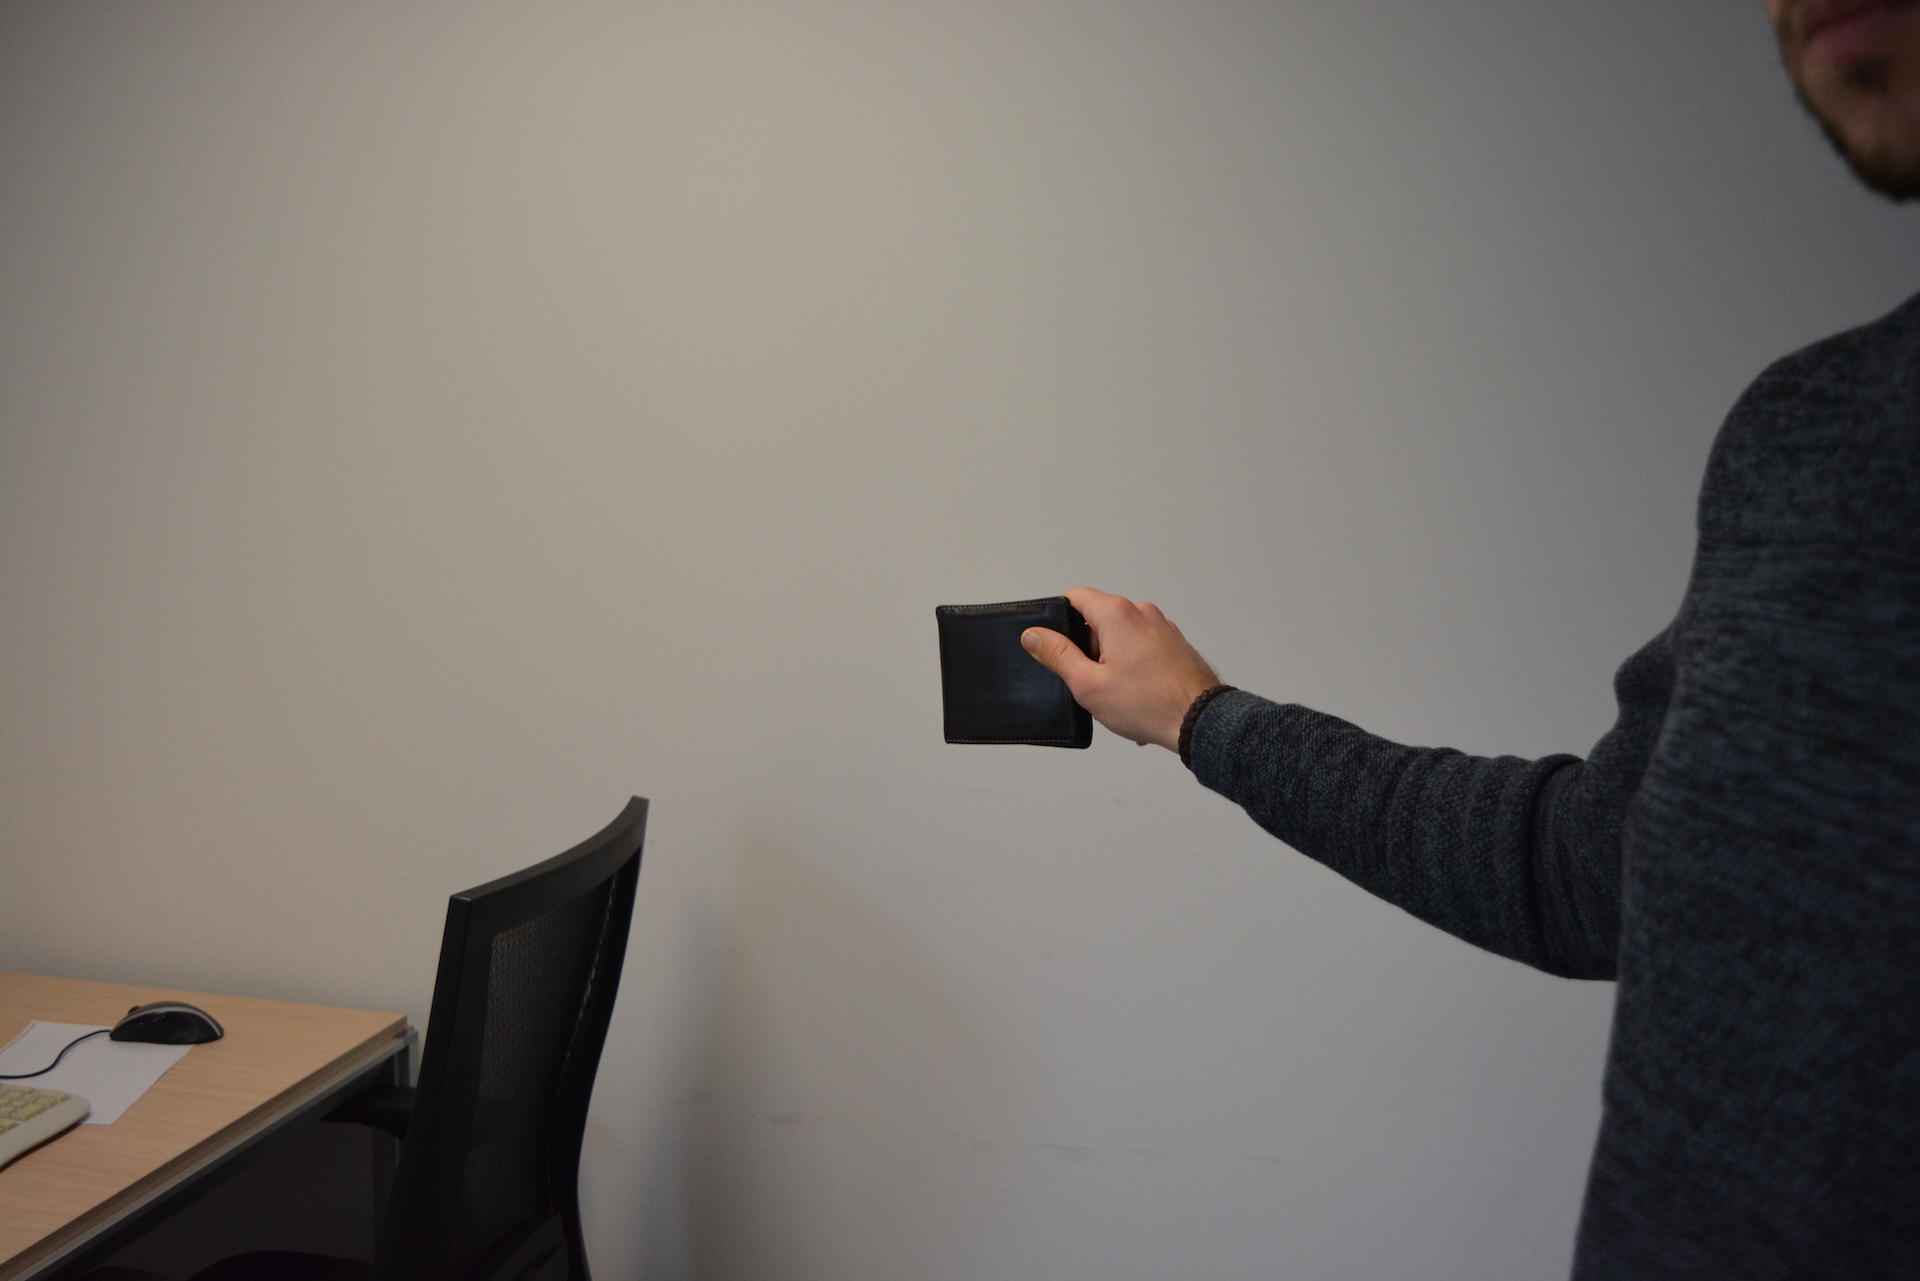monedero: (934, 593, 1095, 751)
